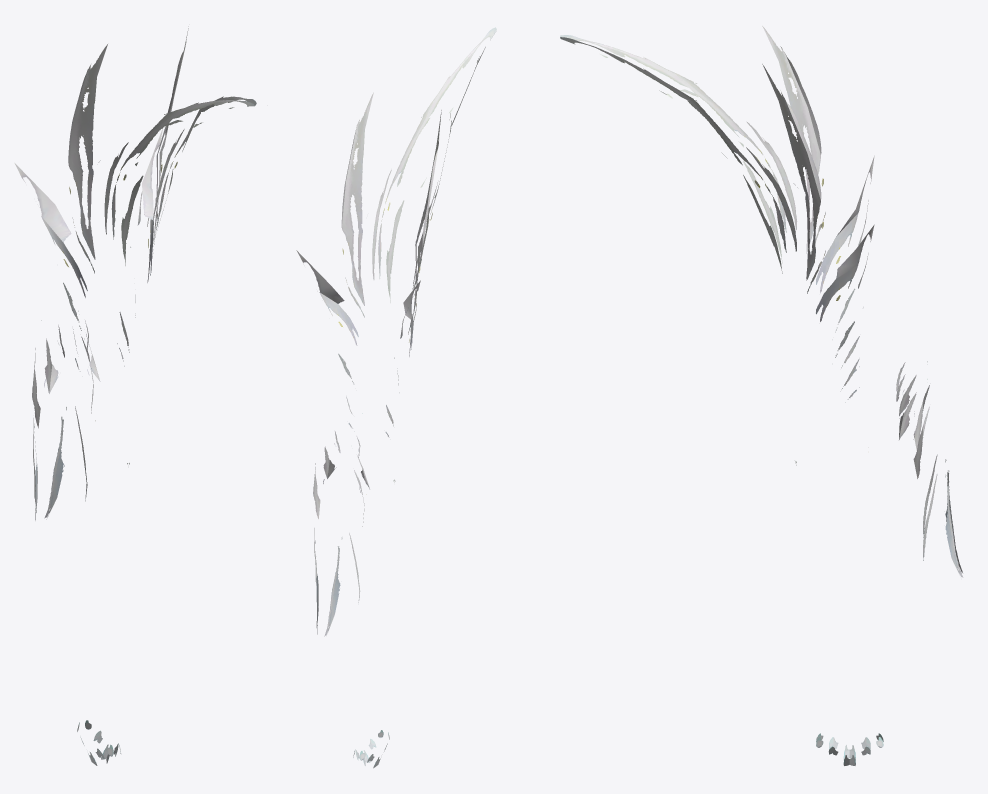
Rendered from 17pdz_04b9fe03.glb.
The picture shows the model from 3 angles, left to right: view 1: azimuth 30°, elevation 25°; view 2: azimuth 150°, elevation 25°; view 3: azimuth 270°, elevation 25°; orthographic projection. The views are drawn at different scales.
Bounding box in the file's own units: 0.2341 × 1.19 × 0.6283.
Materials: 1 (1 with a texture image).
